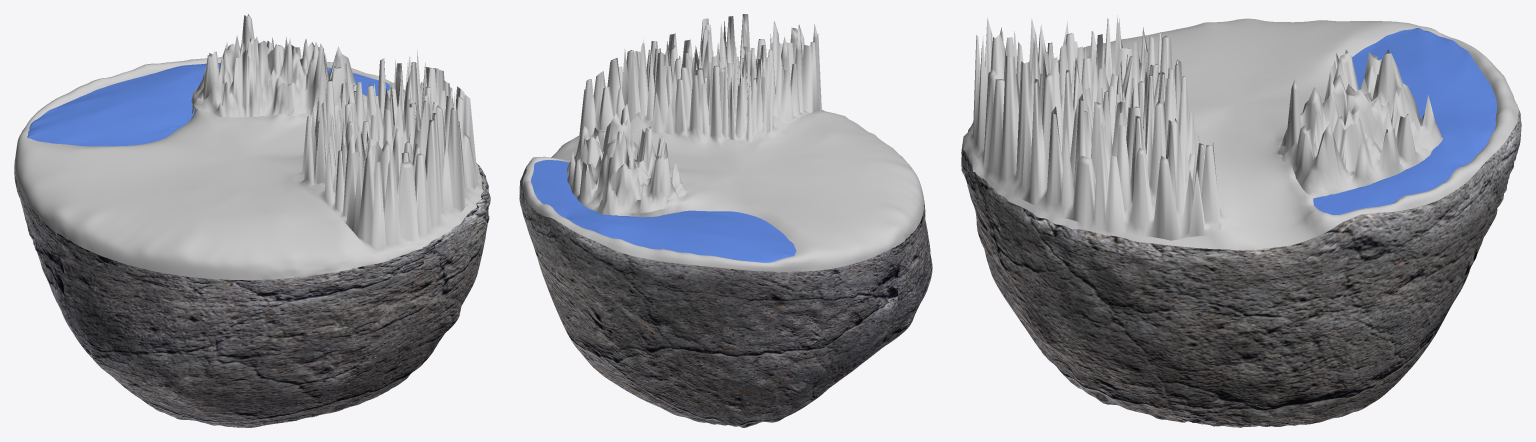
The model's file is insula3.fbx.
The picture shows the model from 3 angles, left to right: view 1: azimuth 30°, elevation 25°; view 2: azimuth 150°, elevation 25°; view 3: azimuth 270°, elevation 25°; orthographic projection. The views are drawn at different scales.
Parts seen in each view (by area): view 1: Insula; view 2: Insula; view 3: Insula.
Part boxes in pixels (box(x1,y1,x2,y2)): Insula: box(14, 14, 490, 427); Insula: box(519, 14, 932, 427); Insula: box(961, 15, 1521, 427).
Bounding box in the file's own units: 1306 × 1092 × 1372.
